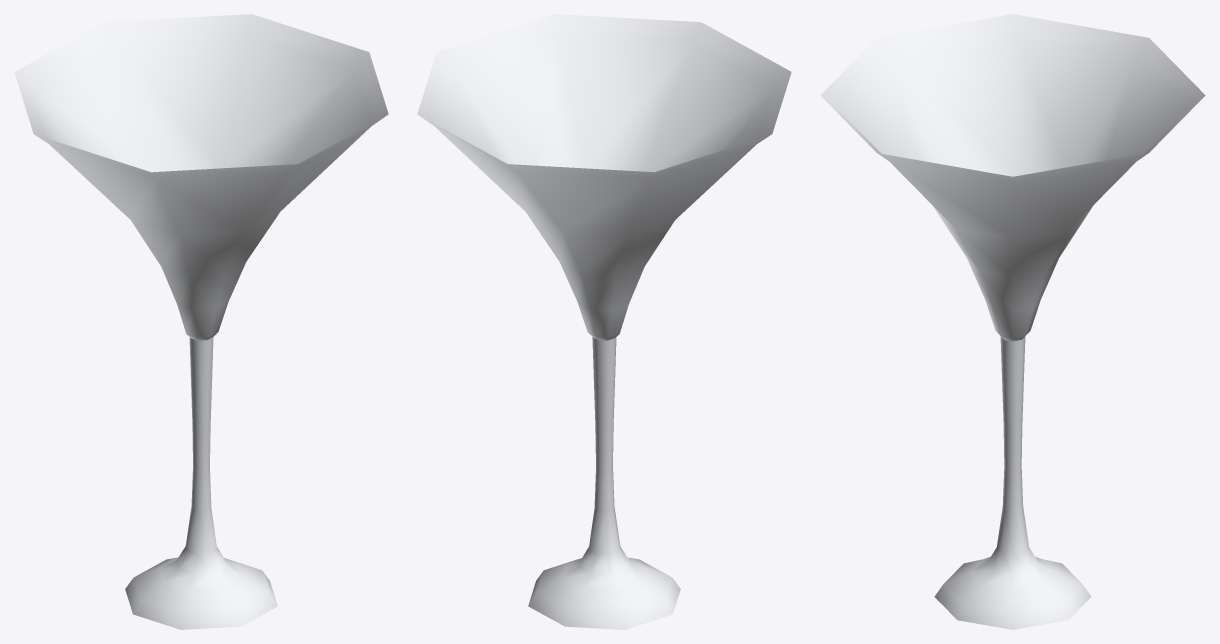
The model's file is cocktail-glass.glb.
3 views of the same model, side by side, from view 1: azimuth 30°, elevation 25°; view 2: azimuth 150°, elevation 25°; view 3: azimuth 270°, elevation 25° (orthographic).
Parts seen in each view (by area): view 1: sercups_cocktail_glass_Cylinder.104; view 2: sercups_cocktail_glass_Cylinder.104; view 3: sercups_cocktail_glass_Cylinder.104.
Part boxes in pixels (<box>): sercups_cocktail_glass_Cylinder.104: <box>14,14,388,629</box>; sercups_cocktail_glass_Cylinder.104: <box>417,14,791,629</box>; sercups_cocktail_glass_Cylinder.104: <box>820,14,1205,629</box>.
Bounding box in the file's own units: 2.67 × 3.84 × 2.67.
1 material, 1 textured.
